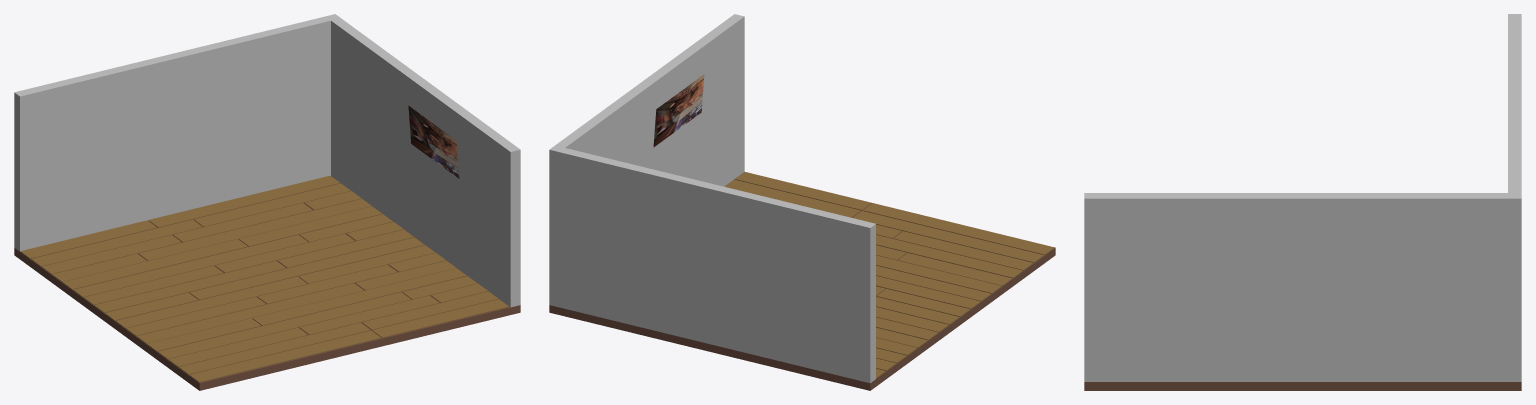
Rendered from with_frame.glb.
3 views of the same model, side by side, from view 1: azimuth 30°, elevation 25°; view 2: azimuth 150°, elevation 25°; view 3: azimuth 270°, elevation 25° (orthographic). The views are drawn at different scales.
Visible parts, largest first — view 1: Plane, Cube.024, frame; view 2: Plane, Cube.024, frame; view 3: Plane.
Boxes of the visible parts, x1=… form: Plane: x1=14, y1=14, x2=520, y2=390; Cube.024: x1=20, y1=175, x2=508, y2=382; frame: x1=408, y1=105, x2=459, y2=178; Plane: x1=549, y1=14, x2=1055, y2=390; Cube.024: x1=724, y1=172, x2=1054, y2=378; frame: x1=653, y1=74, x2=704, y2=146; Plane: x1=1084, y1=14, x2=1521, y2=390.
Size of the model in its own units: 77.45 by 37.56 by 77.45.
Materials: 4 (1 with a texture image).
